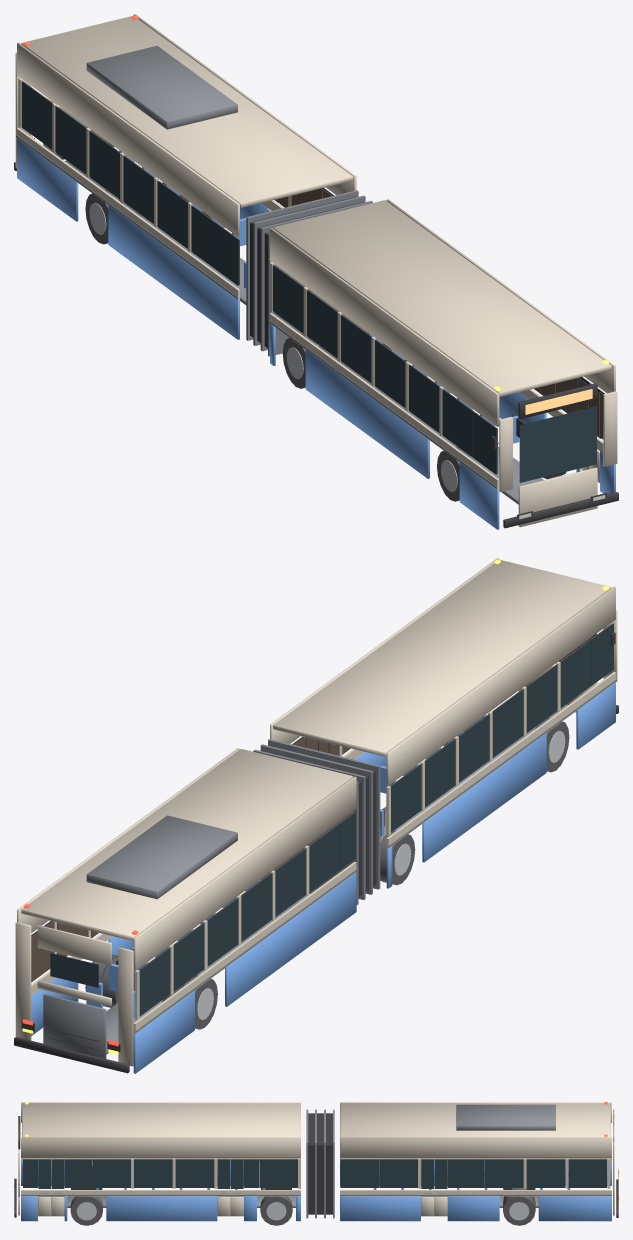
File: Bus_City60_25.fbx
3 renders of one model, top to bottom at view 1: azimuth 30°, elevation 25°; view 2: azimuth 150°, elevation 25°; view 3: azimuth 270°, elevation 25°, orthographic. The views are drawn at different scales.
Visible parts, largest first — view 1: LOD0; view 2: LOD0; view 3: LOD0.
Boxes of the visible parts, left/top/right/bottom form: LOD0: left=14, top=14, right=618, bottom=529; LOD0: left=14, top=558, right=618, bottom=1073; LOD0: left=14, top=1102, right=618, bottom=1225.
Size of what is drawn, in the model's own units: 264 by 320 by 1855.
